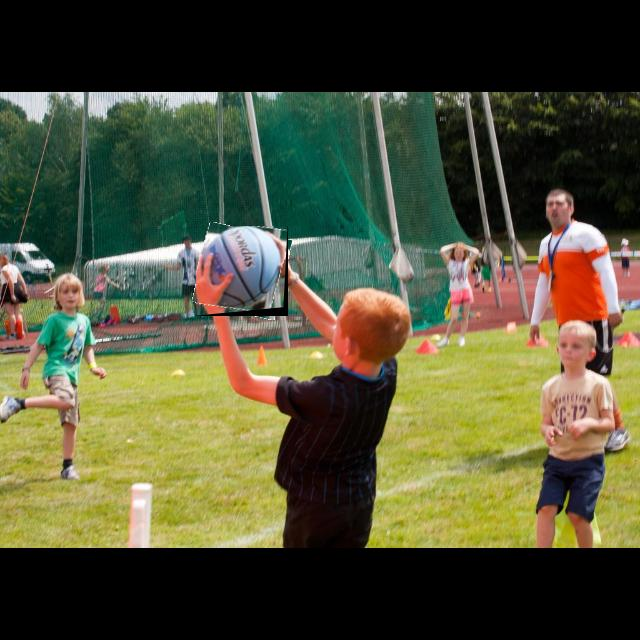Football: (196, 226, 288, 316)
